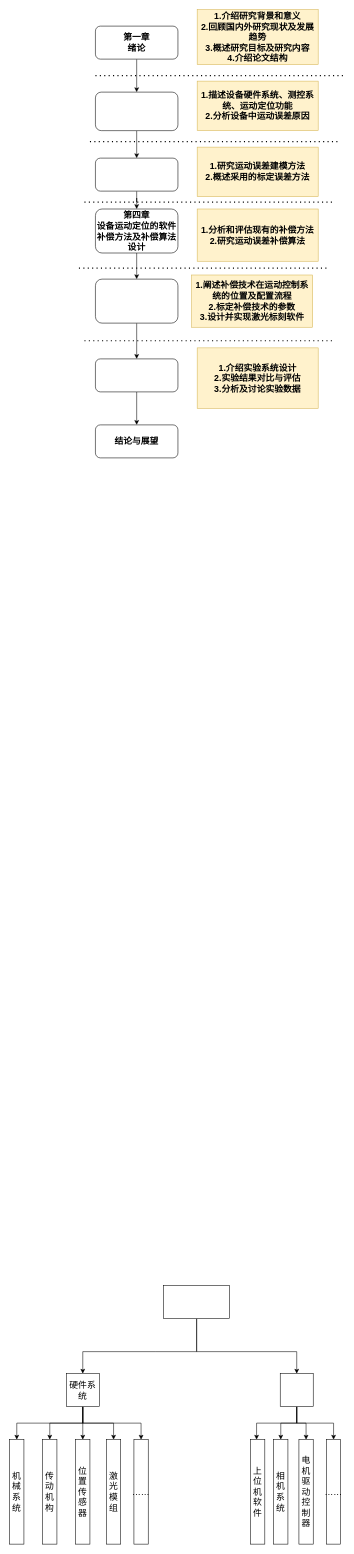
This 354x1554 diagram has some shape labels left out. The shapes that lost their labels are listed below. From the top down, each one's centre as x and y in pixels, then its label:
point 136,111: 第二章 精密激光标刻设备 的构成及误差来源分析
point 136,174: 第三章 运动位置误差建模及误差标定方法
point 136,301: 第五章 补偿技术及激光标刻运动控制系统设计
point 136,375: 第五章 试验与结果分析
point 196,1302: 总体结构
point 296,1390: 测控系统
